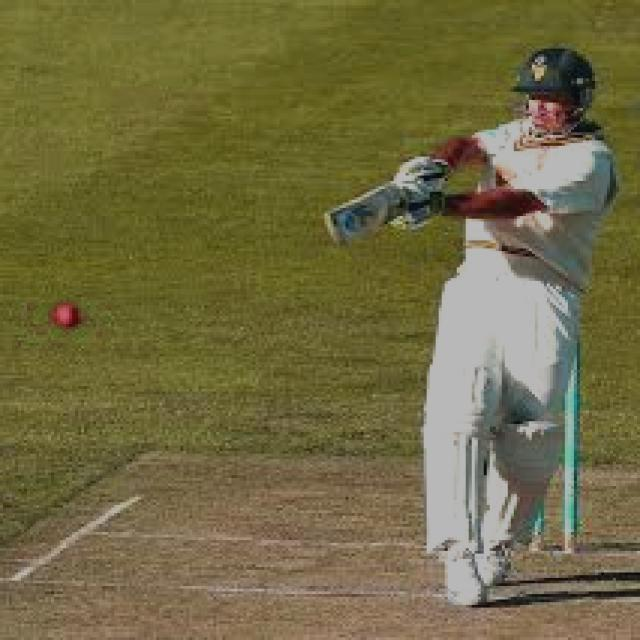toe: (317, 205, 357, 258)
